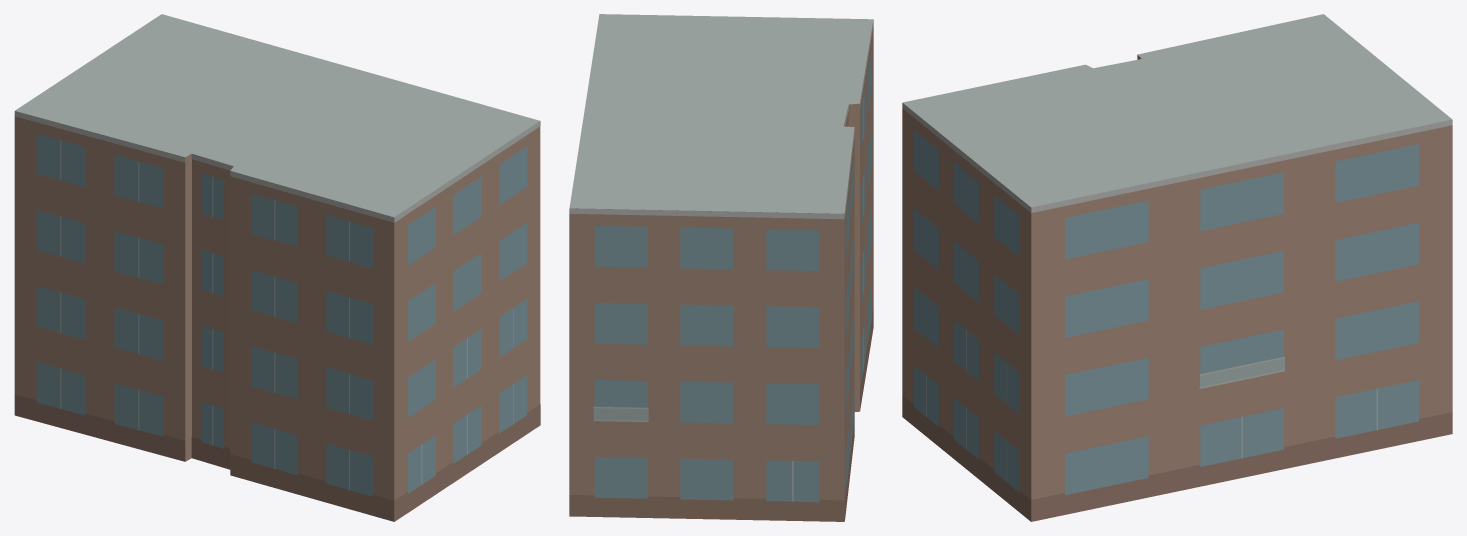
Rendered from survey-upis-32834933.glb.
The picture shows the model from 3 angles, left to right: view 1: azimuth 30°, elevation 25°; view 2: azimuth 150°, elevation 25°; view 3: azimuth 270°, elevation 25°; orthographic projection. The views are drawn at different scales.
Parts seen in each view (by area): view 1: survey-upis-32834933.tmp; view 2: survey-upis-32834933.tmp; view 3: survey-upis-32834933.tmp.
Part boxes in pixels (x1,y1,x2,y2): survey-upis-32834933.tmp: (14, 14, 540, 521); survey-upis-32834933.tmp: (569, 14, 873, 521); survey-upis-32834933.tmp: (902, 14, 1452, 521).
Size of the model in its own units: 18.04 by 13.66 by 21.68.
